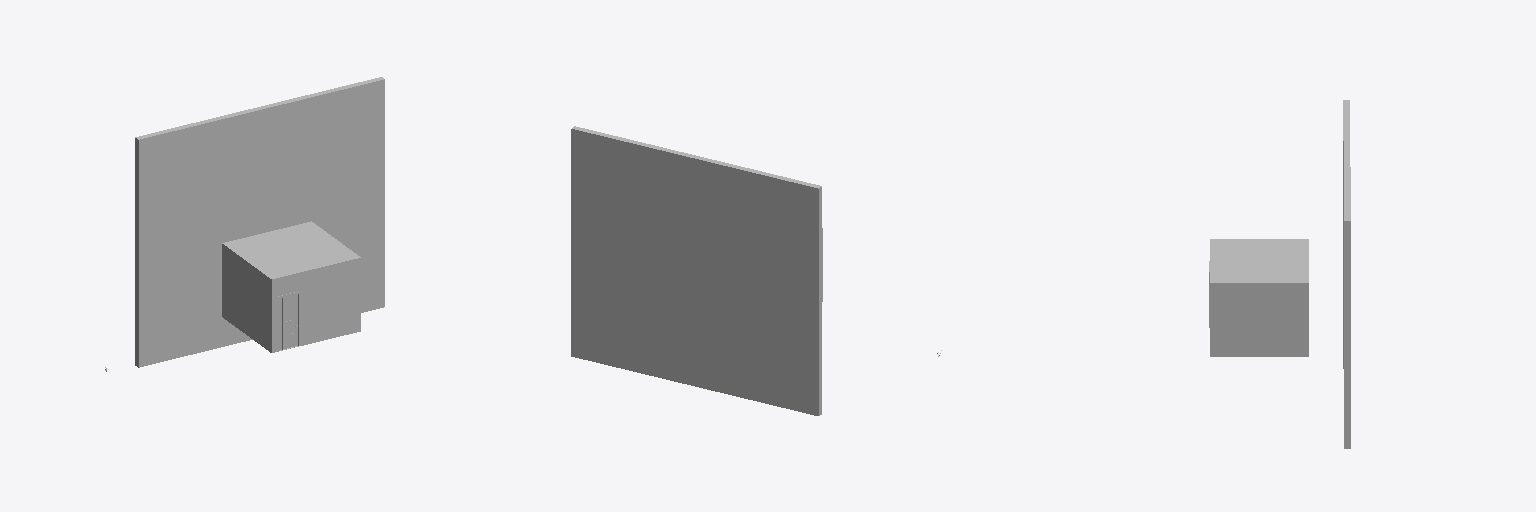
Rendered from kitchen_fr.obj.
The picture shows the model from 3 angles: view 1: azimuth 30°, elevation 25°; view 2: azimuth 150°, elevation 25°; view 3: azimuth 270°, elevation 25°; orthographic projection.
Visible parts, largest first — view 1: Obj3d66_591771_17_304, Layer_duvar, Layer_Layer3, Layer_Layer044; view 2: Obj3d66_591771_17_304; view 3: Layer_duvar, Layer_Layer3, Obj3d66_591771_17_304.
Part boxes in pixels (bbox=[...]): Obj3d66_591771_17_304: bbox=[135, 77, 384, 367]; Layer_duvar: bbox=[222, 244, 360, 352]; Layer_Layer3: bbox=[222, 221, 360, 279]; Layer_Layer044: bbox=[282, 295, 295, 349]; Obj3d66_591771_17_304: bbox=[571, 126, 821, 415]; Layer_duvar: bbox=[1210, 283, 1308, 356]; Layer_Layer3: bbox=[1210, 239, 1308, 282]; Obj3d66_591771_17_304: bbox=[1343, 100, 1350, 448].
Size of the model in its own units: 13812 by 9325 by 5254.